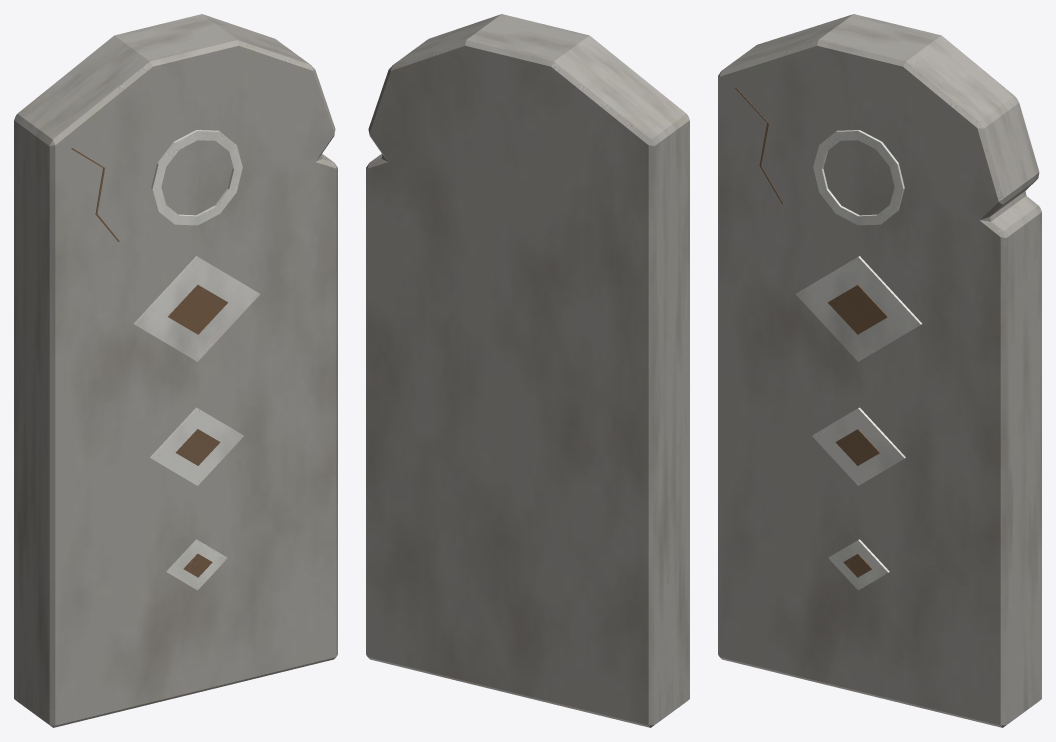
File: P24_stone_tablets_v3.glb
3 views of the same model, side by side, from view 1: azimuth 30°, elevation 25°; view 2: azimuth 150°, elevation 25°; view 3: azimuth 330°, elevation 25° (orthographic).
Visible parts, largest first — view 1: Weathered stone tablet; view 2: Weathered stone tablet; view 3: Weathered stone tablet.
Part boxes in pixels (<box>): Weathered stone tablet: <box>14,14,337,727</box>; Weathered stone tablet: <box>366,14,689,727</box>; Weathered stone tablet: <box>718,14,1041,727</box>.
Bounding box in the file's own units: 0.2347 × 0.5 × 0.0595.
Materials: 3 (3 with a texture image).
